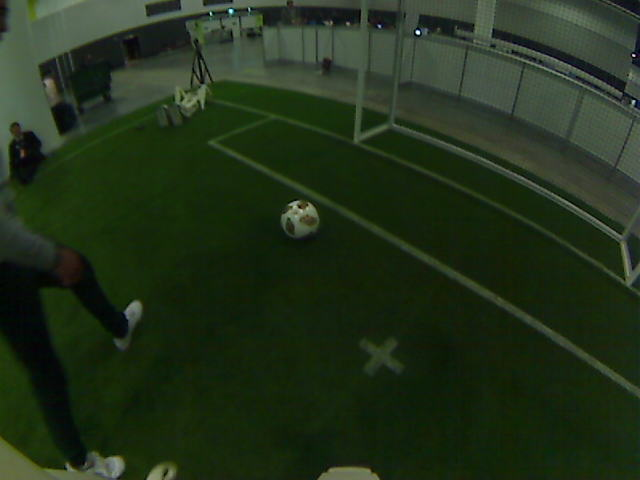ball: (278, 198, 318, 238)
goalpost: (333, 80, 373, 140), (611, 230, 640, 290)
robot: (162, 77, 182, 120)
